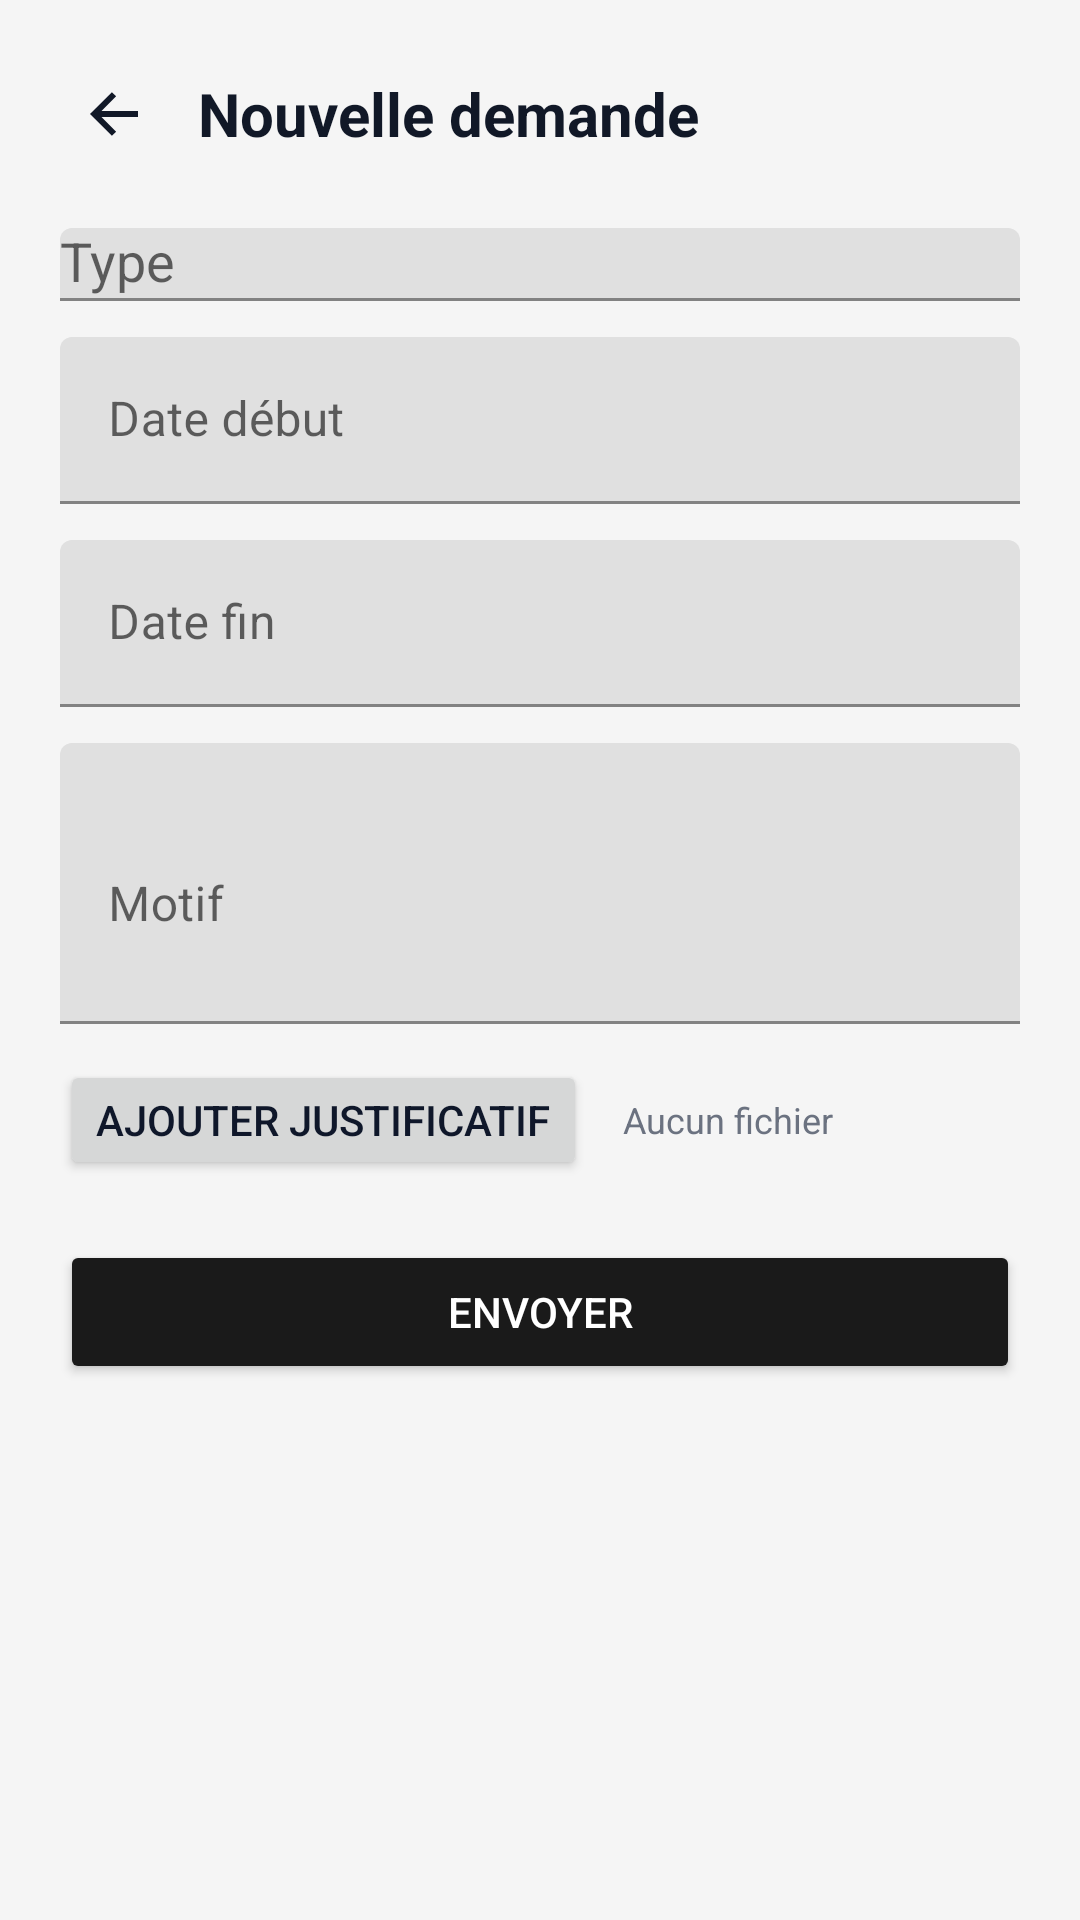

Icon bounding boxes for this 1080 x 1920 phone screenshot, format bbox(x1, y1, x2, y2):
Retour: bbox(90, 92, 138, 136)
